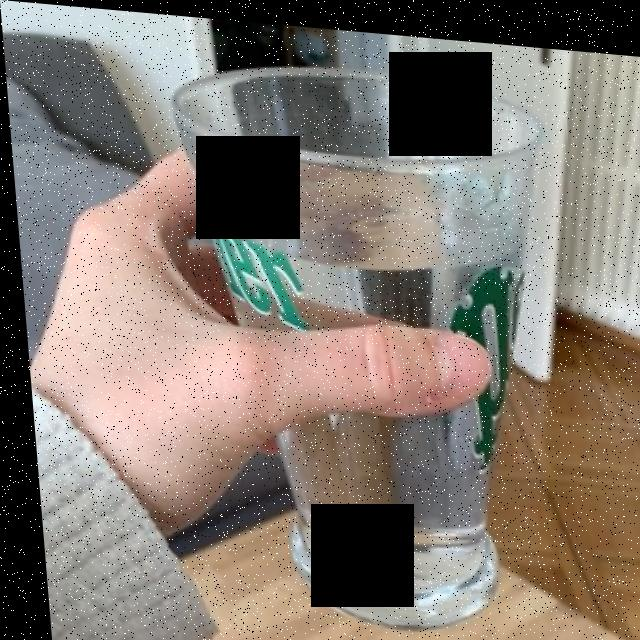water: (202, 134, 504, 578)
